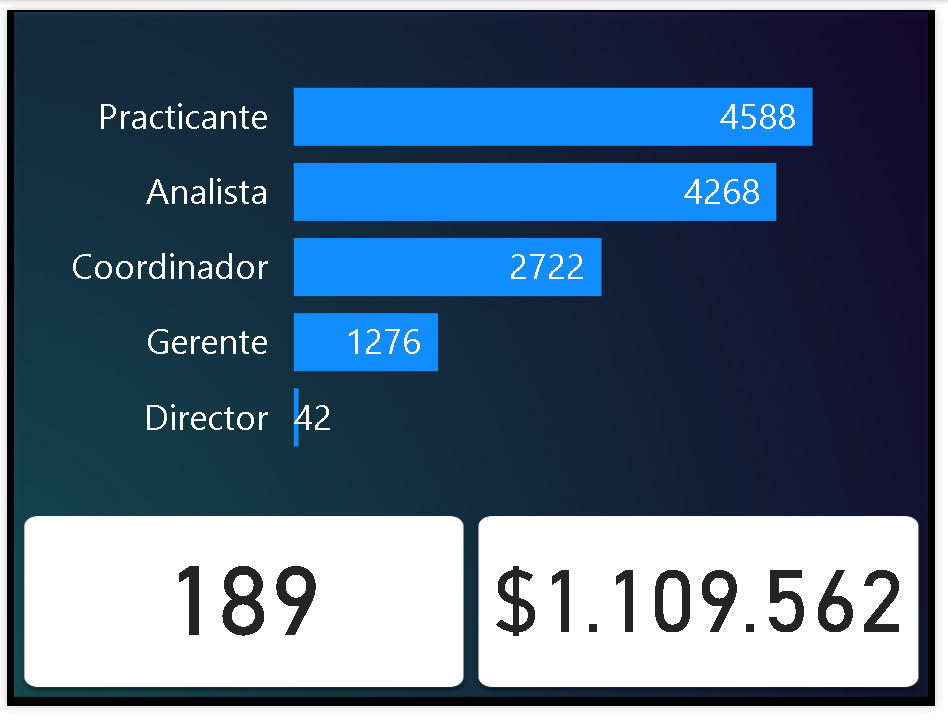

What the dashboard file says about the page in this screenshot:
{"tool":"powerbi","page":{"name":"tooltip","canvas":[320,240],"ordinal":1},"visuals":[{"type":"barChart","fields":{"Category":["DataRH.Cargo"],"Y":["Sum(DataRH.Tiempo Extra)"]},"box":[6.9,3.4,305.9,163.1],"z":0},{"type":"cardVisual","fields":{"Data":["Sum(DataRH.Salario)"]},"box":[156.9,166.6,163.1,66.2],"z":1000},{"type":"cardVisual","fields":{"Data":["DataRH.Personal Activo"]},"box":[10,166.6,143.4,66.2],"z":2000}]}

Visuals, with their boxes in screenshot pixels (x1, y1, x2, y2), scaled from the page's 320x240 canvas onto the 948x720 screenshot:
barChart - DataRH.Cargo x Sum(DataRH.Tiempo Extra): crop(20, 10, 927, 500)
cardVisual - Sum(DataRH.Salario): crop(465, 500, 947, 698)
cardVisual - DataRH.Personal Activo: crop(30, 500, 454, 698)
